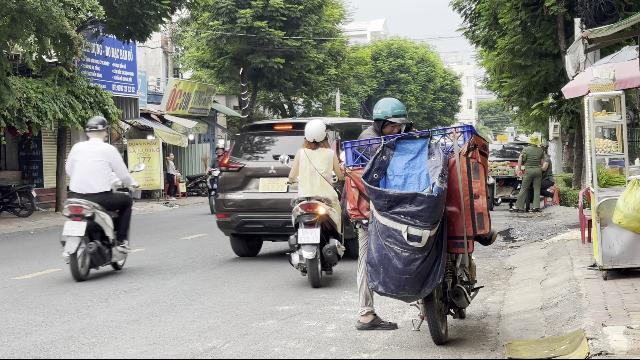helmet: (302, 121, 328, 148), (83, 115, 109, 139)
licenseplate: (63, 221, 87, 236), (298, 228, 320, 244)
motorcyclist: (58, 114, 134, 278), (284, 120, 348, 284)
